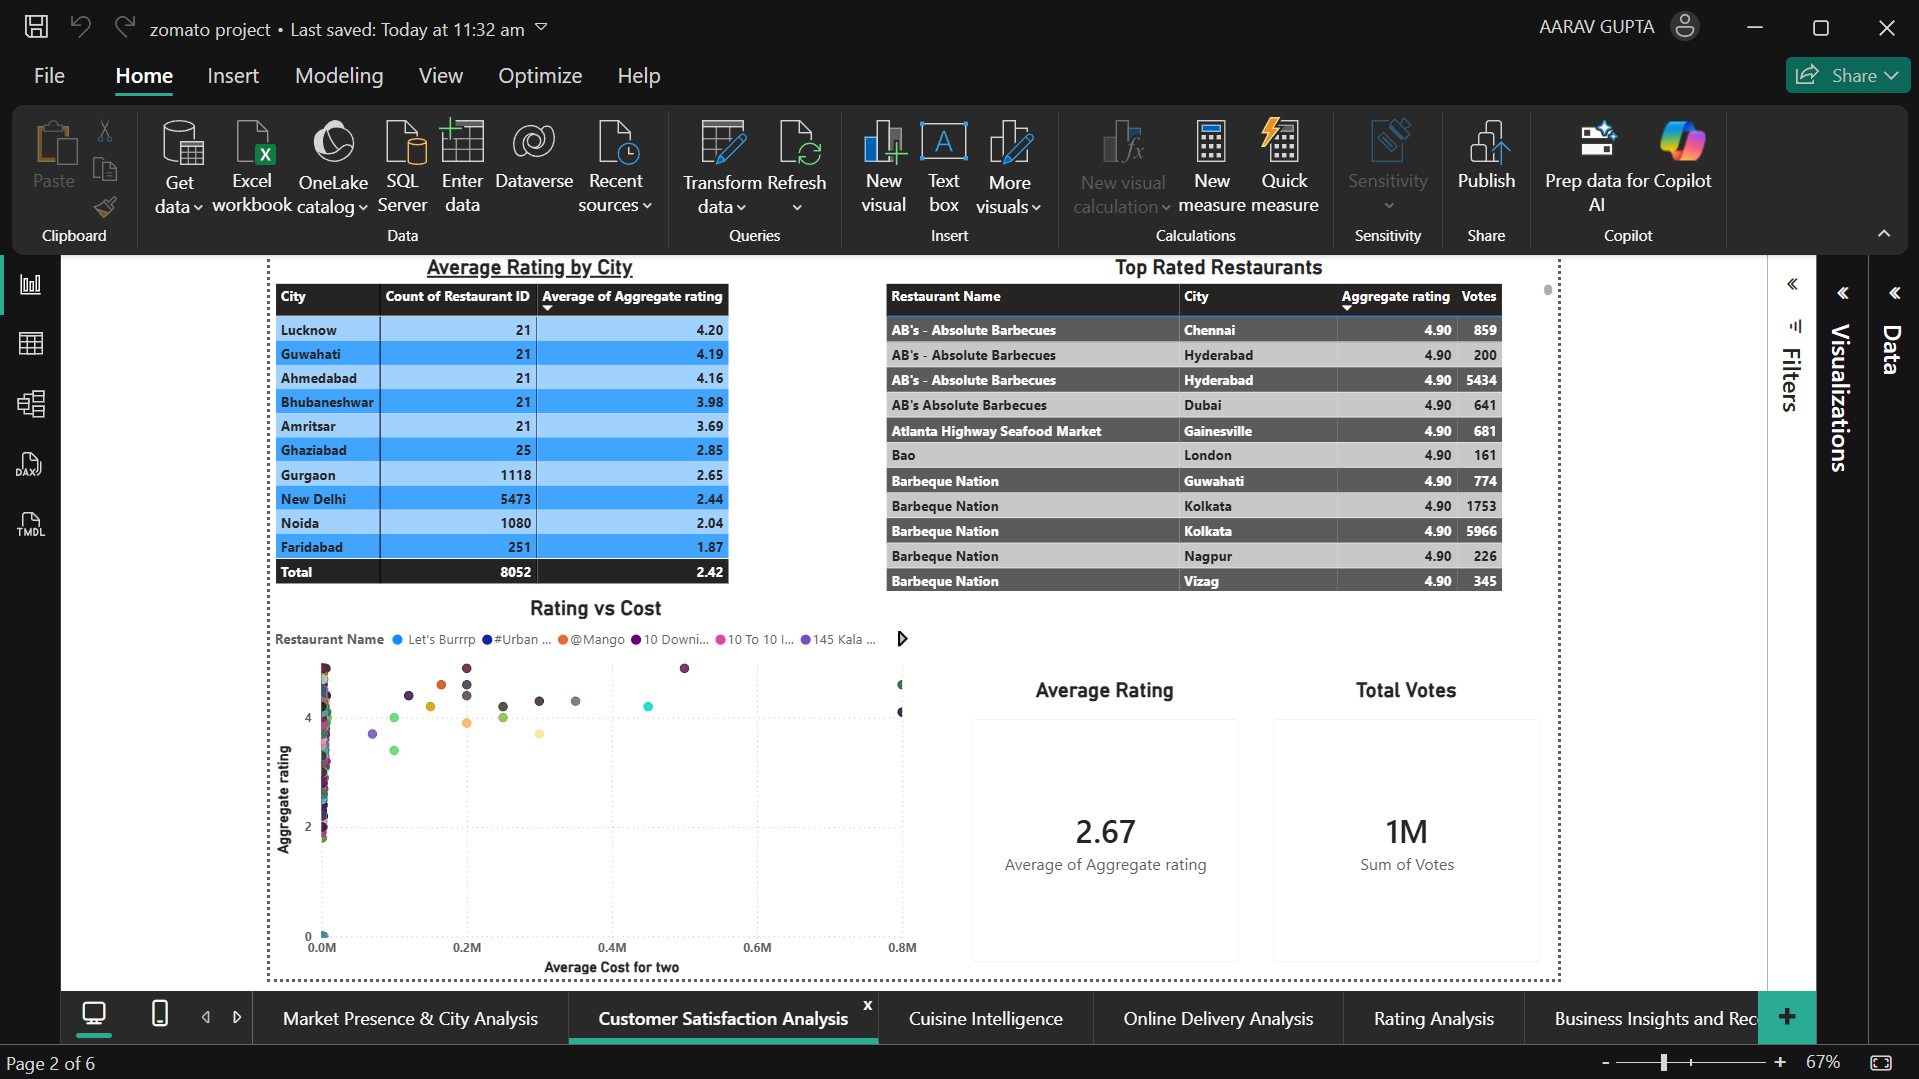

What the dashboard file says about the page in this screenshot:
{"tool":"powerbi","page":{"name":"Customer Satisfaction Analysis","canvas":[1280,720],"ordinal":1},"visuals":[{"type":"tableEx","title":"Average Rating by City","fields":{"Values":["zomato.City","CountNonNull(zomato.Restaurant ID)","Avg(zomato.Aggregate rating)"]},"box":[0,0,516.7,338.3],"z":0},{"type":"cardVisual","title":"Average Rating","fields":{"Data":["Avg(zomato.Aggregate rating)"]},"box":[680,420,300,300],"z":1000},{"type":"cardVisual","title":"Total Votes","fields":{"Data":["Sum(zomato.Votes)"]},"box":[980,420,300,300],"z":2000},{"type":"tableEx","title":"Top Rated Restaurants","fields":{"Values":["zomato.Restaurant Name","zomato.City","zomato.Aggregate rating","zomato.Votes"]},"box":[606.7,0,673.3,338.3],"z":3000},{"type":"scatterChart","title":"Rating vs  Cost","fields":{"X":["zomato.Average Cost for two"],"Y":["zomato.Aggregate rating"],"Series":["zomato.Restaurant Name"]},"box":[0,338.3,648.3,381.7],"z":4000}]}

Visuals, with their boxes on the page's 1280x720 design canvas (x1, y1, x2, y2). These are canvas units, not pixel positions in the 1919x1079 screenshot, which may show the page scaled, cropped or inside an application window:
"Average Rating by City" tableEx: [0, 0, 517, 338]
"Average Rating" cardVisual: [680, 420, 980, 720]
"Total Votes" cardVisual: [980, 420, 1280, 720]
"Top Rated Restaurants" tableEx: [607, 0, 1280, 338]
"Rating vs  Cost" scatterChart: [0, 338, 648, 720]
